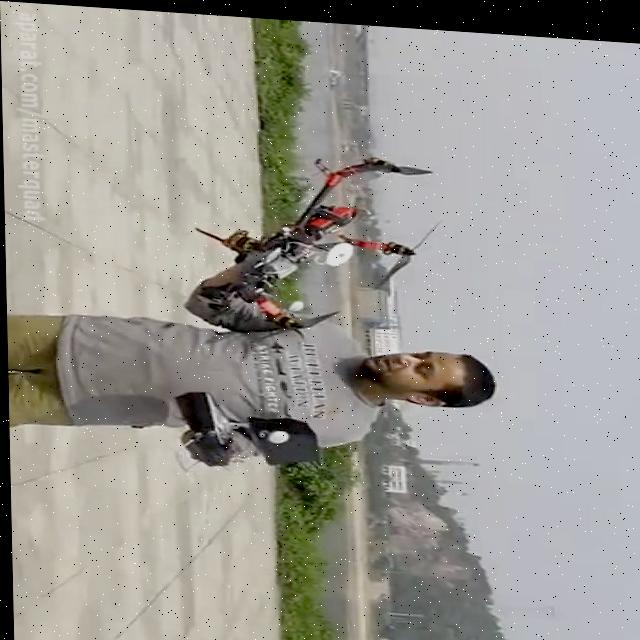drone: (192, 135, 452, 344)
